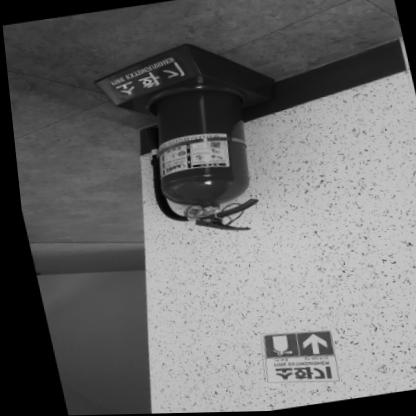FE: (85, 33, 302, 248)
